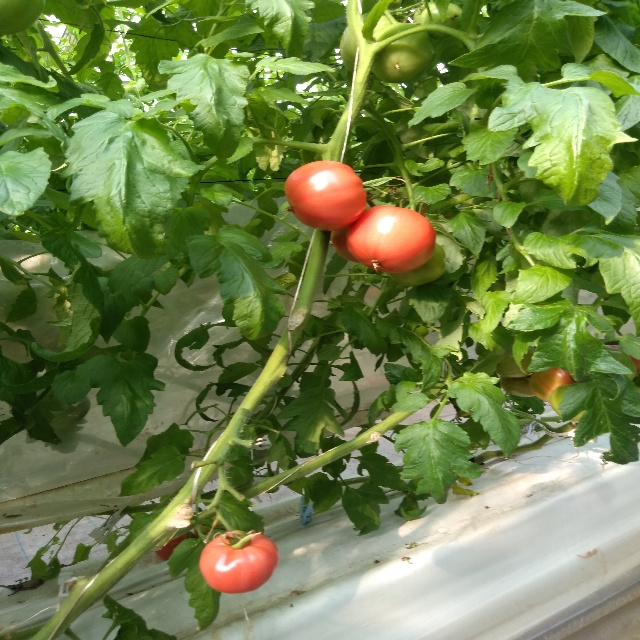b_fully_ripened: (345, 205, 438, 274), (284, 160, 367, 232), (199, 529, 279, 594)
b_green: (364, 23, 436, 84), (340, 12, 398, 73), (386, 243, 446, 287), (420, 2, 464, 40)
